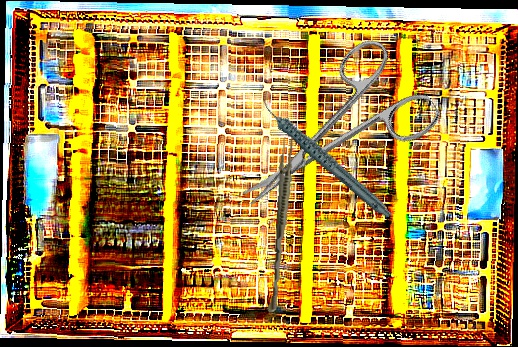Handpiece: (258, 75, 394, 241)
Iris Scissors: (211, 28, 446, 242)
Tissue Forceps: (267, 136, 295, 313)
